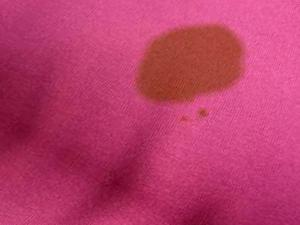stain: (134, 22, 249, 104), (197, 108, 213, 123), (176, 114, 189, 127)
